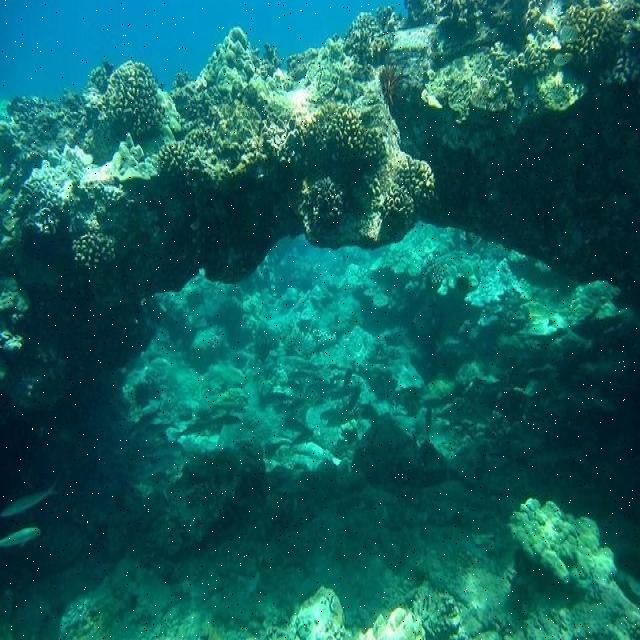fish: (4, 484, 60, 517), (2, 528, 41, 547)
sea-floor: (0, 0, 638, 604), (268, 503, 639, 639)
